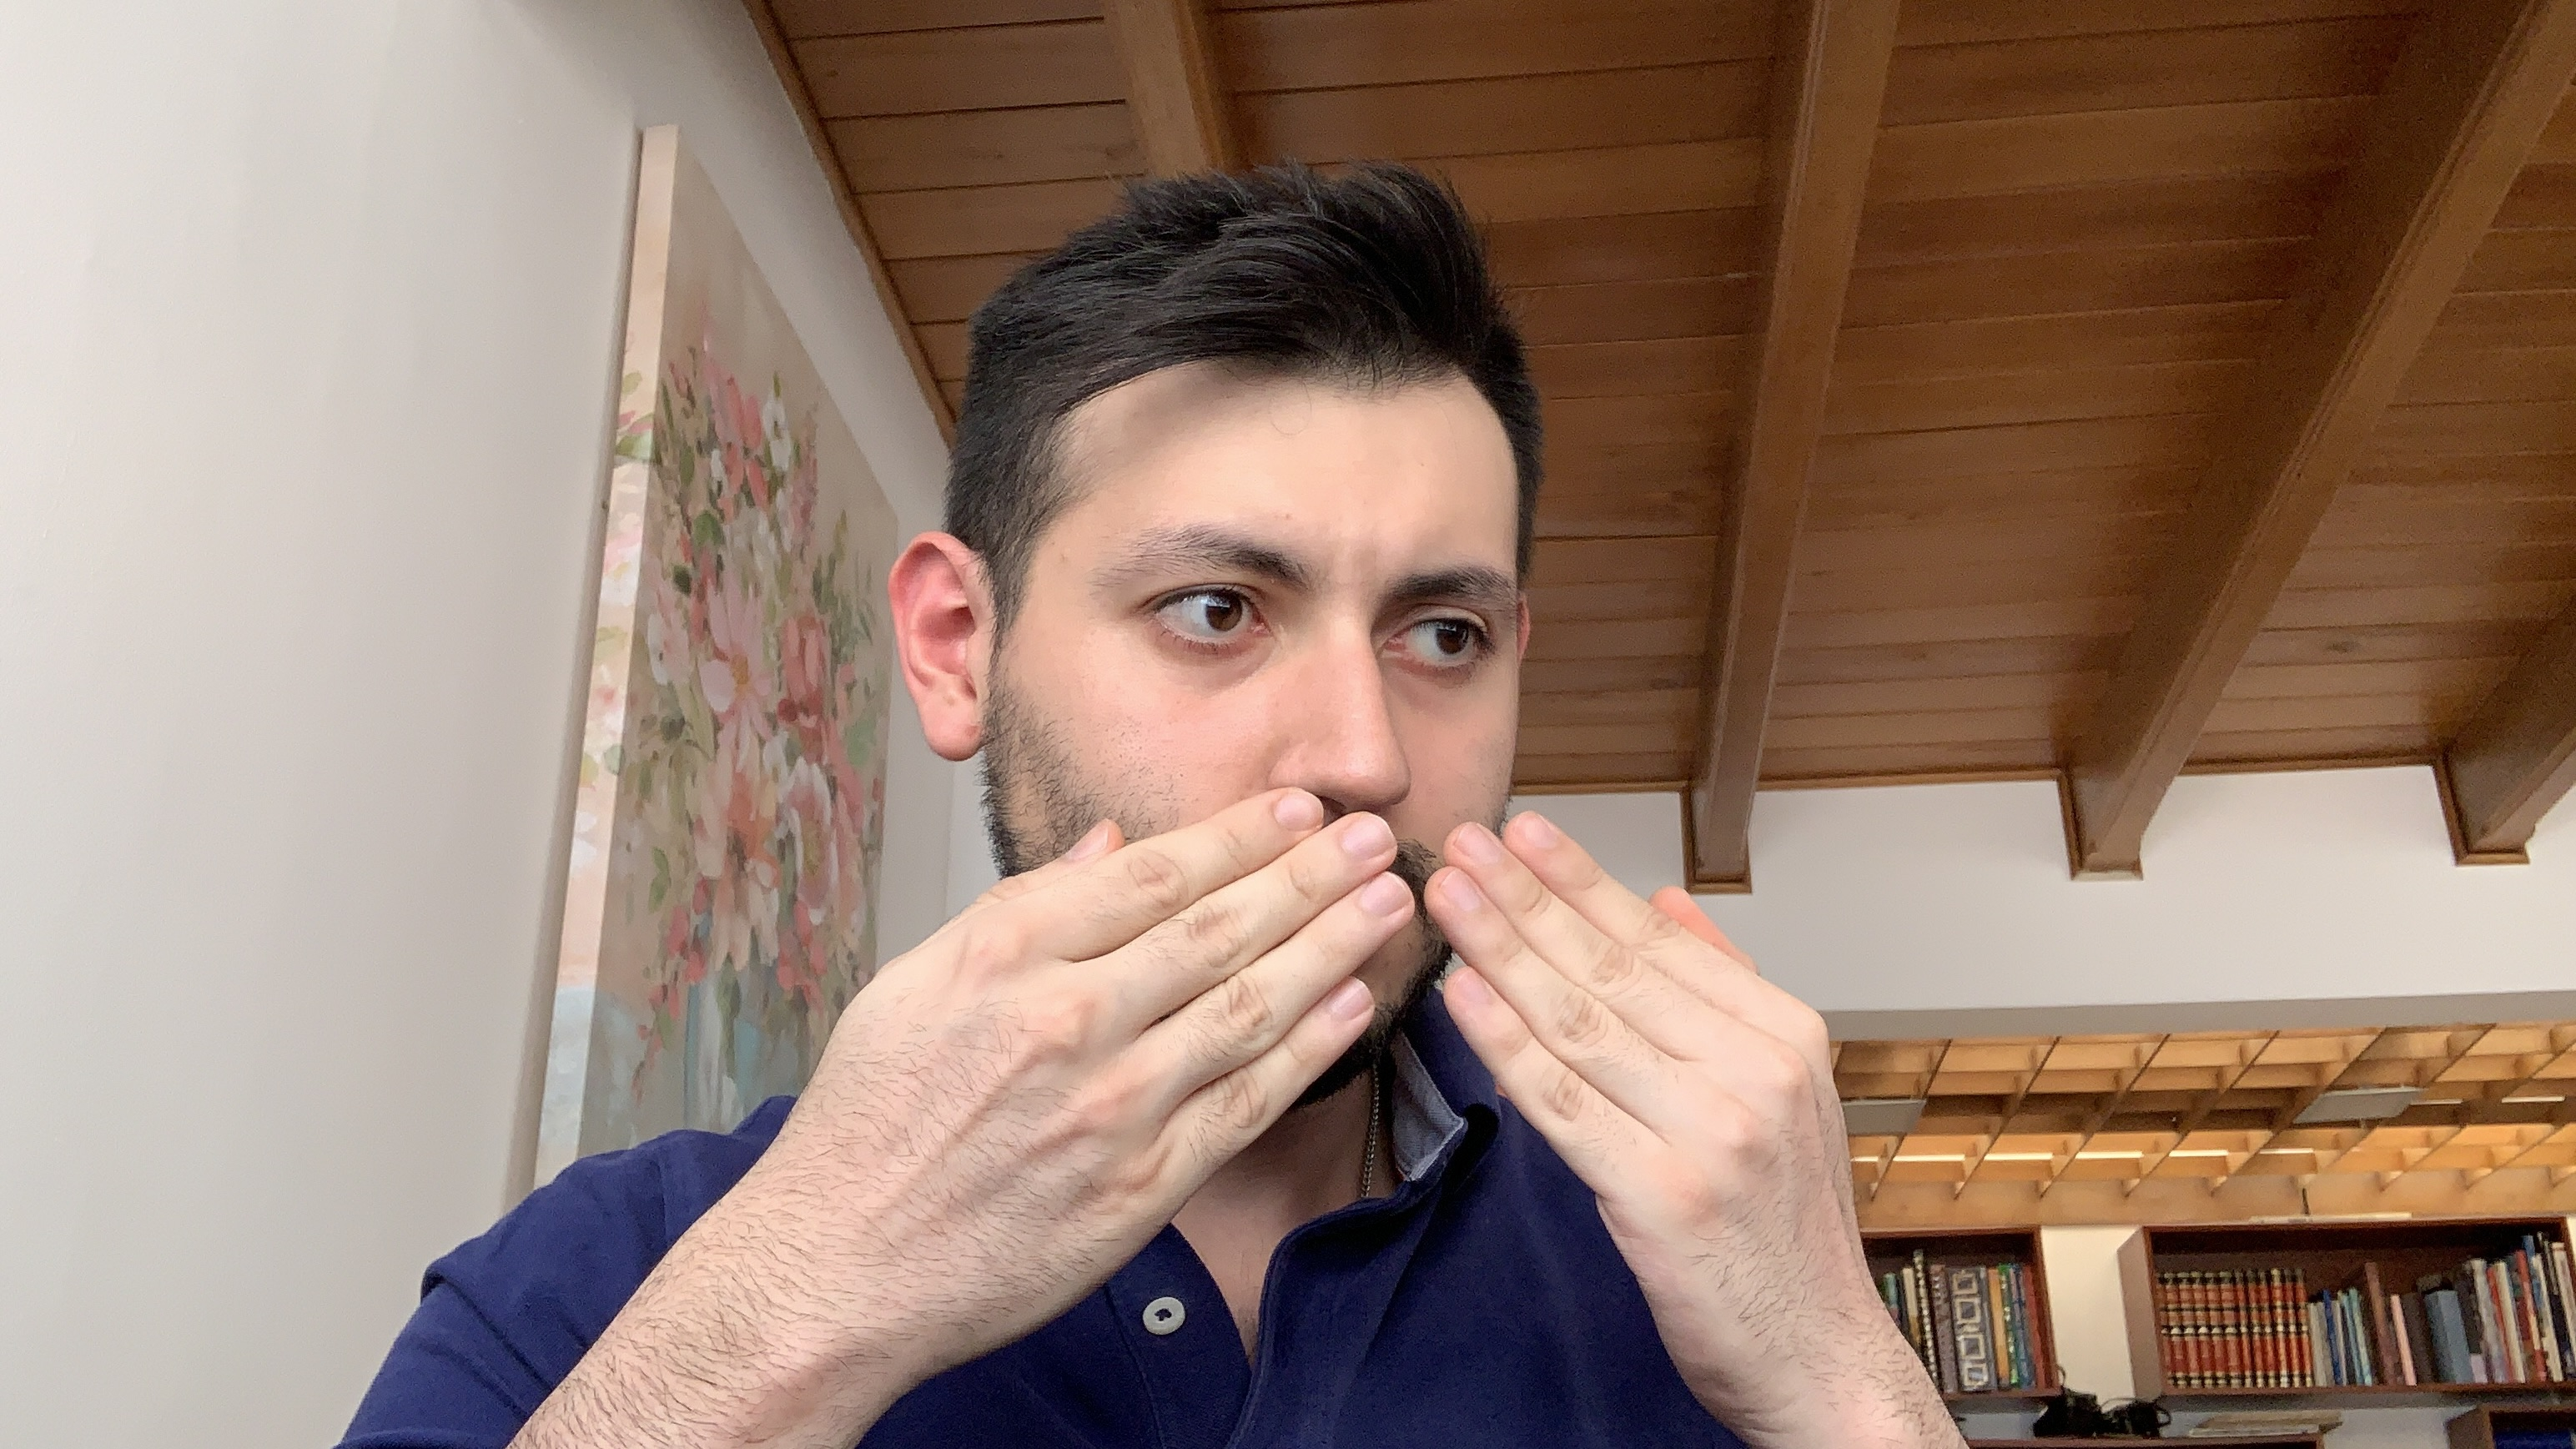Thank You: (773, 777, 1914, 1350)
